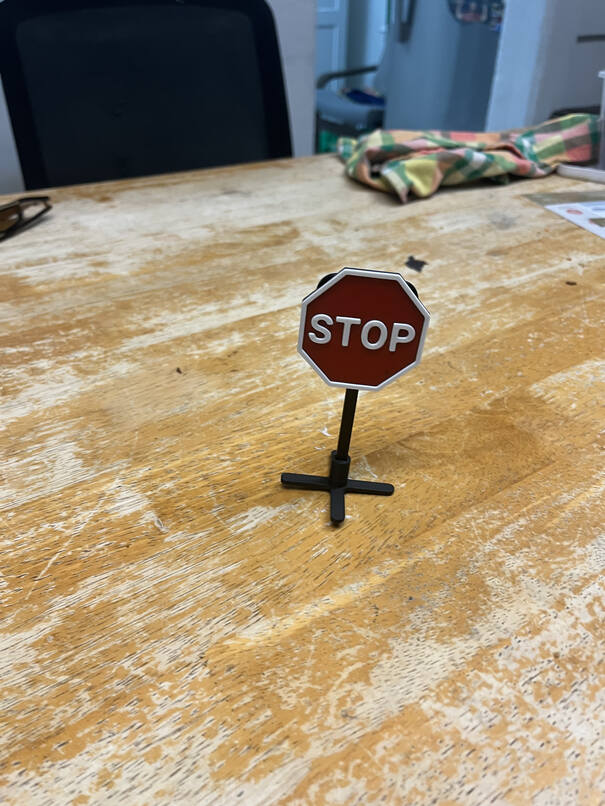sign_stop: (296, 264, 429, 392)
